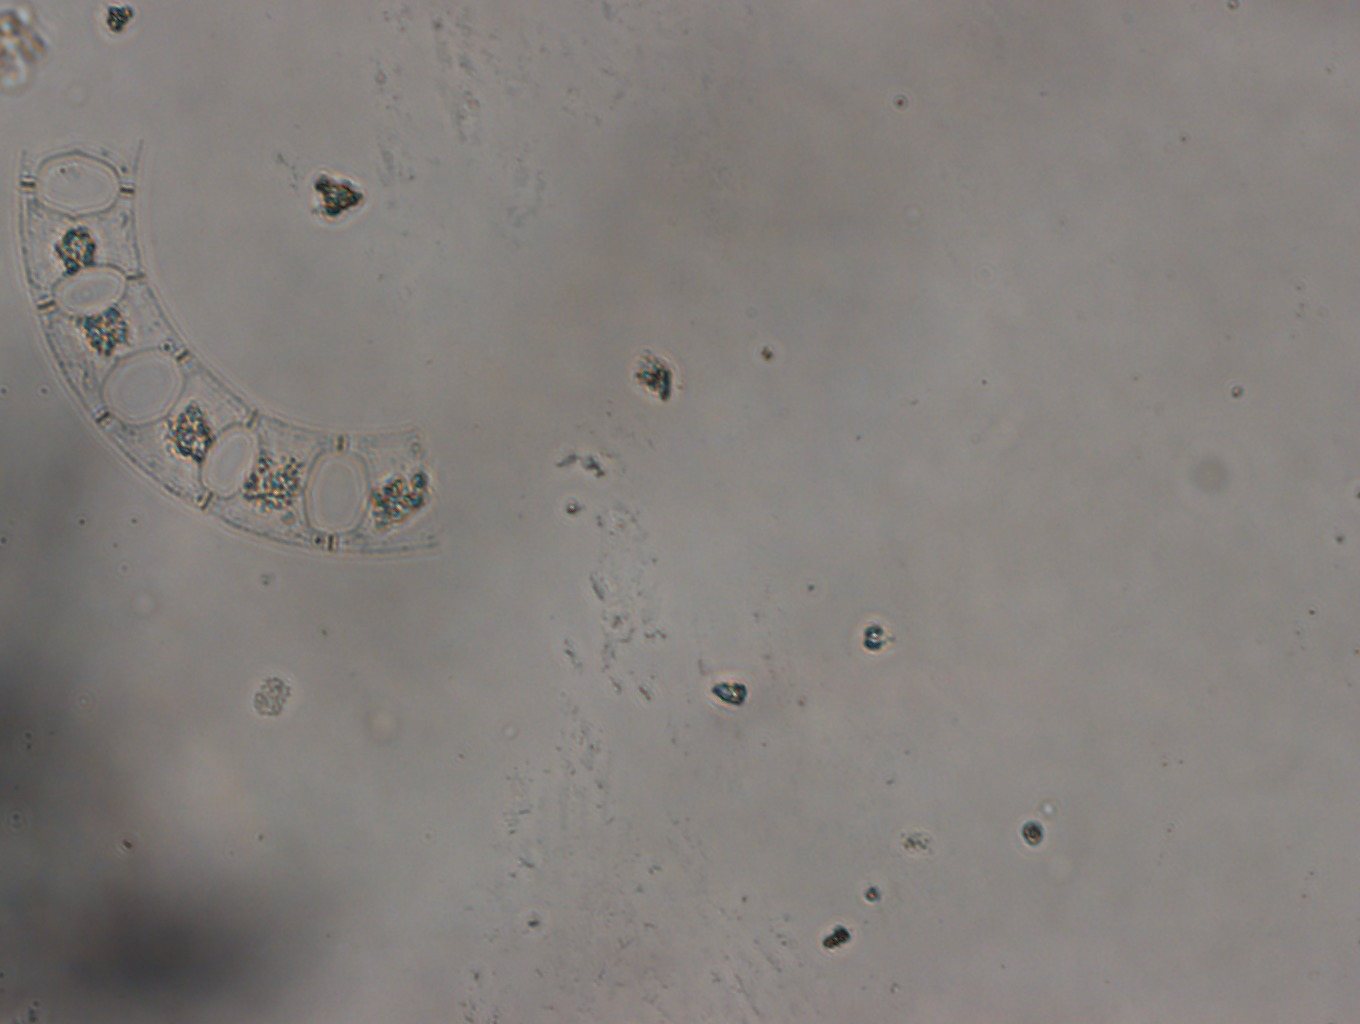eucampia: (16, 140, 439, 553)
